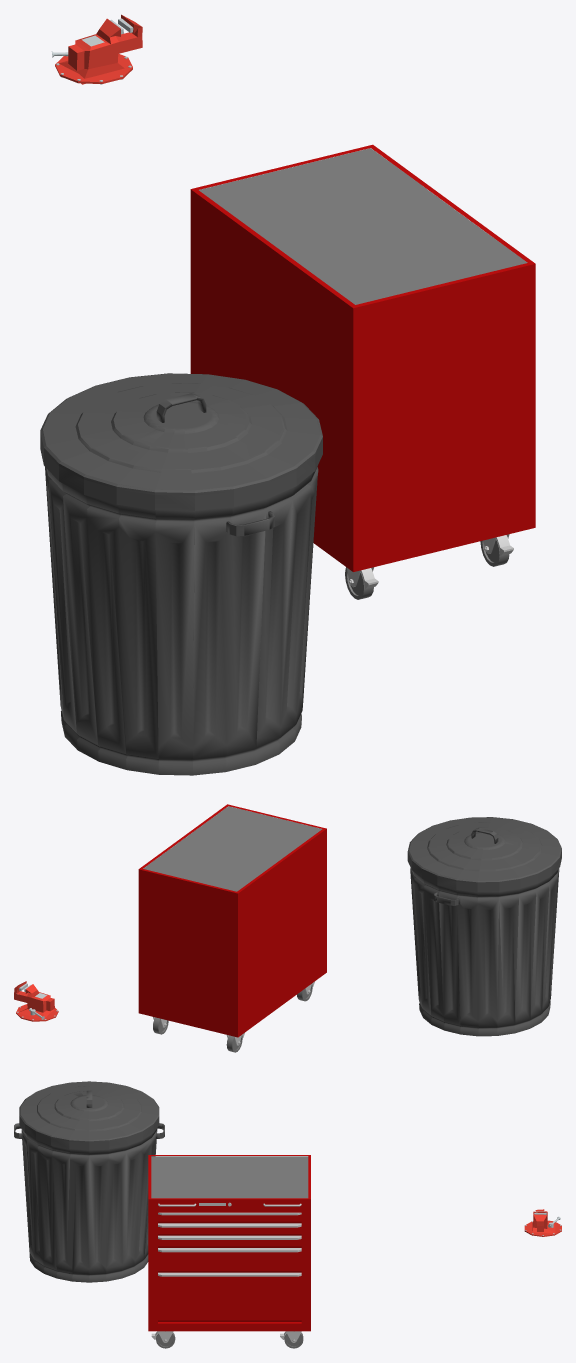
The model's file is compressed_Decors_5.glb.
The picture shows the model from 3 angles, top to bottom: view 1: azimuth 30°, elevation 25°; view 2: azimuth 150°, elevation 25°; view 3: azimuth 270°, elevation 25°; orthographic projection. The views are drawn at different scales.
Parts seen in each view (by area): view 1: TooldBox, Garbage_Bin, Vice Clamp; view 2: TooldBox, Garbage_Bin, Vice Clamp; view 3: TooldBox, Garbage_Bin, Vice Clamp.
Part boxes in pixels (x1=…): TooldBox: x1=190, y1=144, x2=535, y2=599; Garbage_Bin: x1=40, y1=373, x2=322, y2=775; Vice Clamp: x1=51, y1=14, x2=142, y2=84; TooldBox: x1=138, y1=804, x2=326, y2=1052; Garbage_Bin: x1=407, y1=817, x2=561, y2=1036; Vice Clamp: x1=14, y1=981, x2=58, y2=1021; TooldBox: x1=148, y1=1155, x2=310, y2=1348; Garbage_Bin: x1=14, y1=1081, x2=164, y2=1282; Vice Clamp: x1=524, y1=1209, x2=561, y2=1236.
Size of the model in its own units: 3.37 by 1.94 by 5.9.
